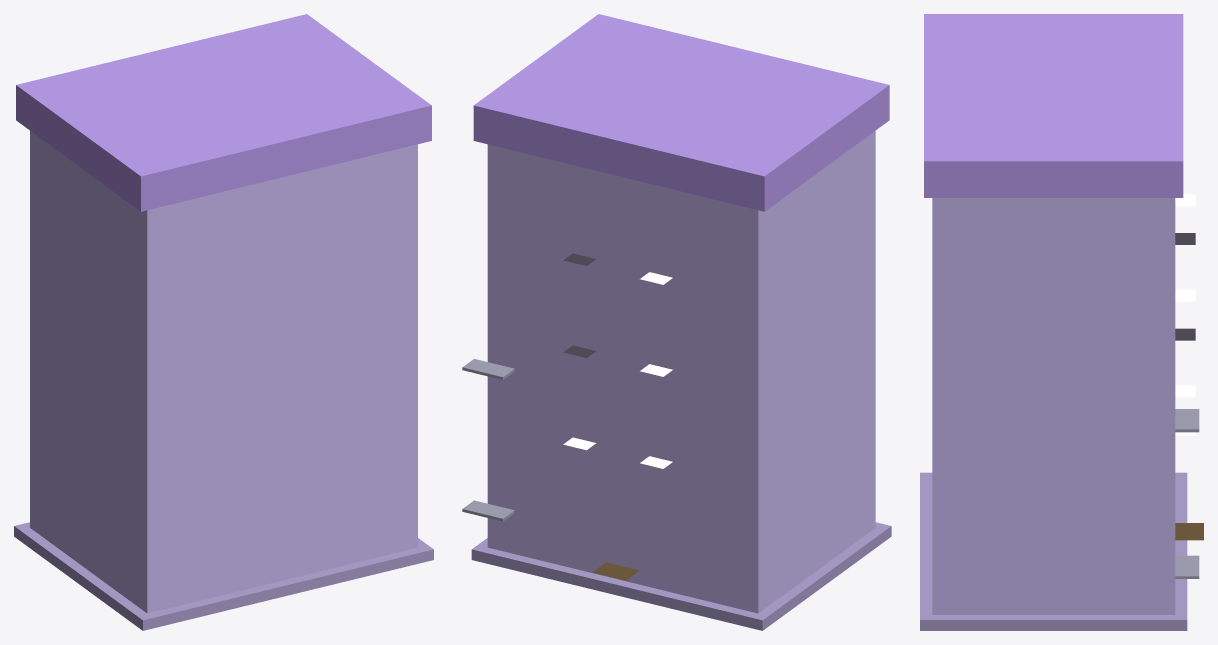
The model's file is apartment_complex.glb.
3 views of the same model, side by side, from view 1: azimuth 30°, elevation 25°; view 2: azimuth 150°, elevation 25°; view 3: azimuth 270°, elevation 25° (orthographic). The views are drawn at different scales.
Visible parts, largest first — view 1: apartment_complex; view 2: apartment_complex; view 3: apartment_complex.
Boxes of the visible parts, bbox=[...] form: apartment_complex: bbox=[14, 14, 433, 630]; apartment_complex: bbox=[462, 14, 891, 630]; apartment_complex: bbox=[920, 14, 1203, 630].
Size of the model in its own units: 4.35 by 6.4 by 3.5.
